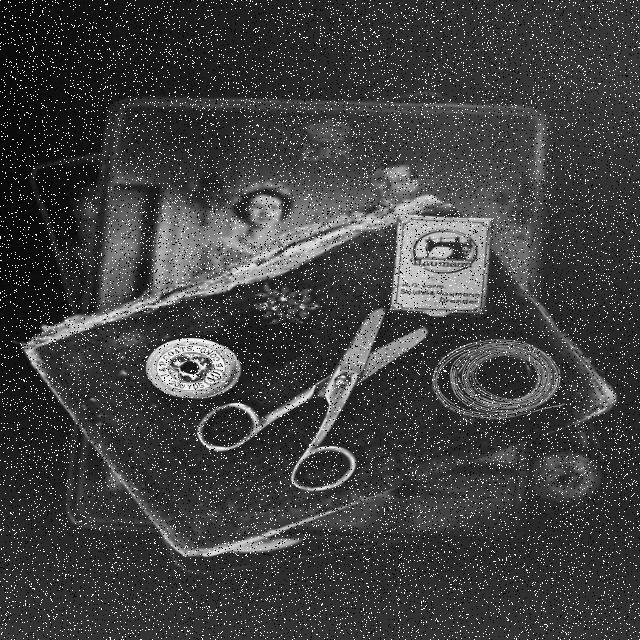scissors: (166, 292, 442, 508)
